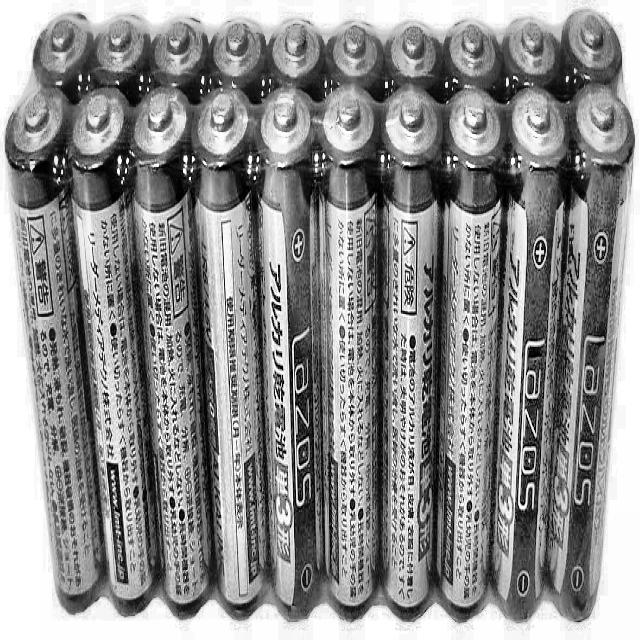drycell: (3, 89, 108, 624), (69, 91, 162, 623), (549, 86, 634, 624), (429, 92, 512, 630), (130, 91, 213, 626), (491, 95, 570, 640), (194, 86, 271, 622), (376, 88, 446, 620), (259, 91, 322, 634), (321, 78, 383, 627)
